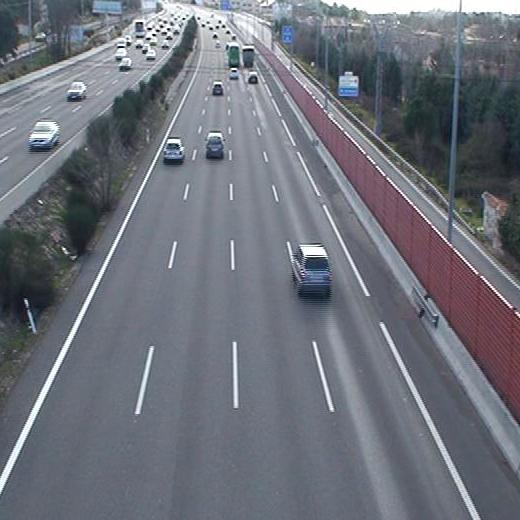bus: (227, 47, 239, 66)
car: (292, 245, 333, 295), (207, 132, 225, 158), (165, 138, 184, 161), (248, 72, 258, 84), (214, 81, 223, 94), (230, 68, 239, 78)
small-truck: (243, 47, 255, 68)
